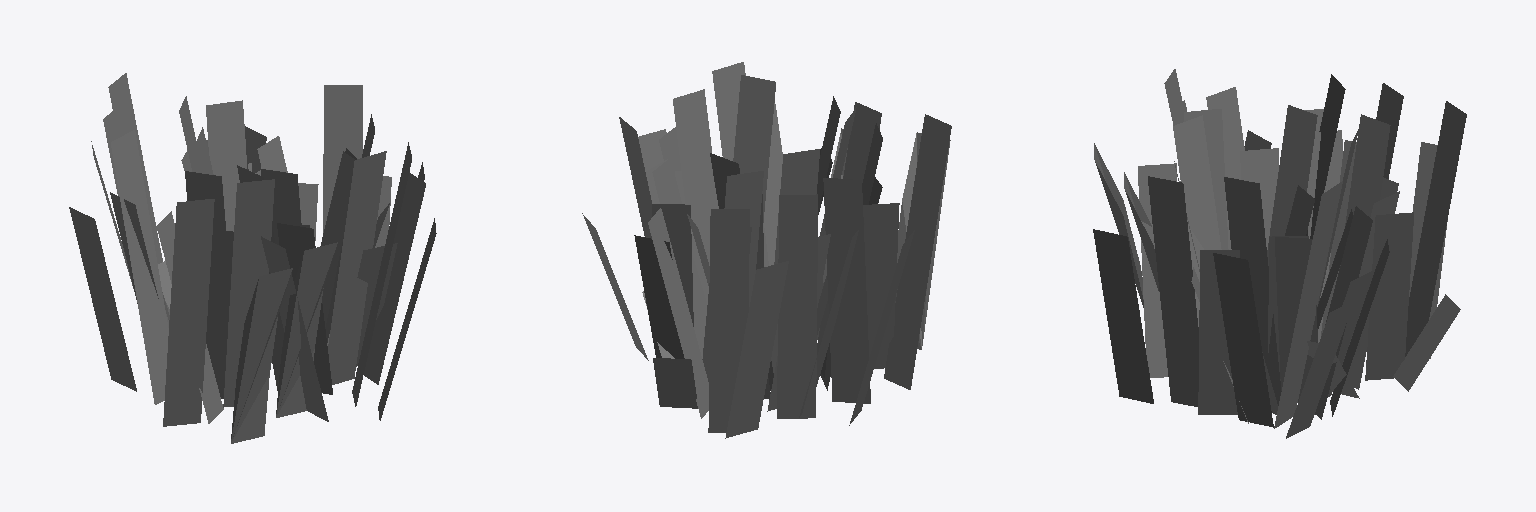
File: grass.obj
3 renders of one model, left to right at view 1: azimuth 30°, elevation 25°; view 2: azimuth 150°, elevation 25°; view 3: azimuth 270°, elevation 25°, orthographic.
Visible parts, largest first — view 1: pPlane7; view 2: pPlane7; view 3: pPlane7.
Part boxes in pixels (x1,y1,x2,y2): pPlane7: (69,73,436,443); pPlane7: (582,62,951,438); pPlane7: (1093,69,1466,438).
Size of the model in its own units: 24.73 by 18.21 by 24.91.